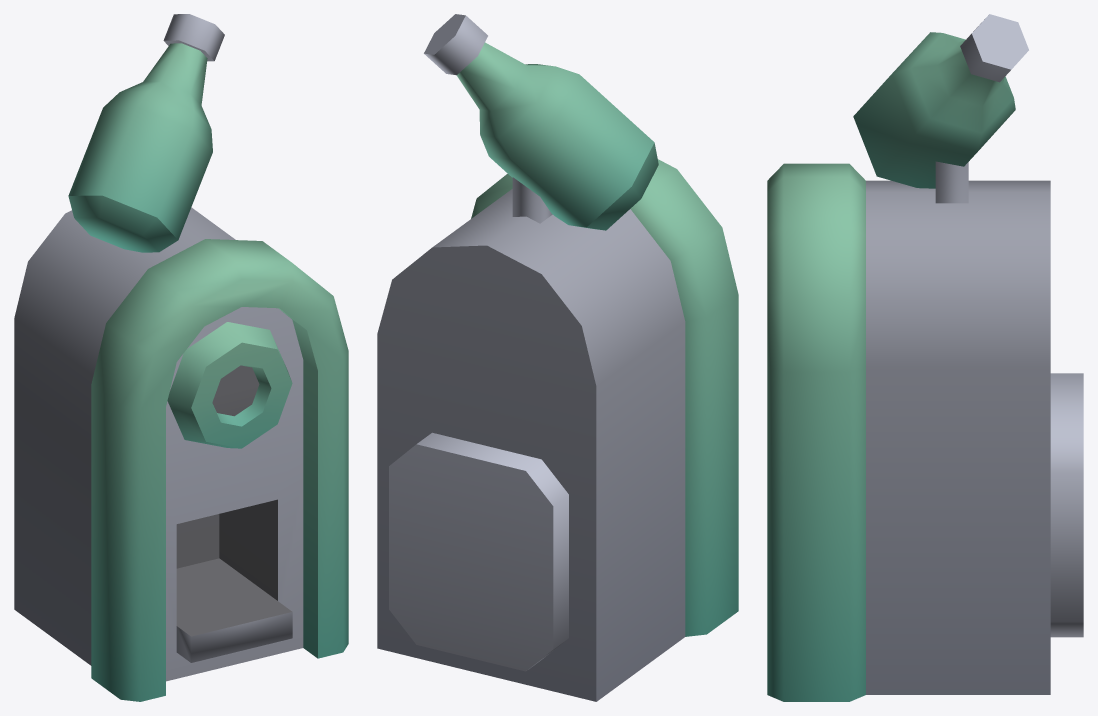
The model's file is bottle-return.glb.
3 renders of one model, left to right at view 1: azimuth 30°, elevation 25°; view 2: azimuth 150°, elevation 25°; view 3: azimuth 270°, elevation 25°, orthographic. The views are drawn at different scales.
Parts seen in each view (by area): view 1: bottle-return; view 2: bottle-return; view 3: bottle-return.
Boxes of the visible parts, left/top/right/bottom form: bottle-return: left=14, top=14, right=348, bottom=701; bottle-return: left=377, top=14, right=738, bottom=701; bottle-return: left=767, top=14, right=1083, bottom=701.
Size of the model in its own units: 0.45 by 1.09 by 0.481.
